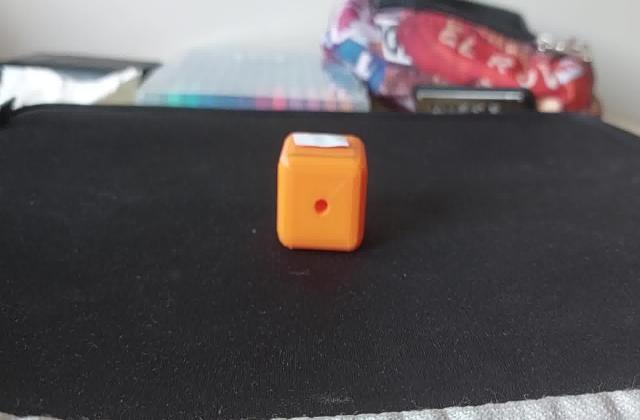cube: (271, 130, 371, 257)
white: (288, 132, 352, 150)
